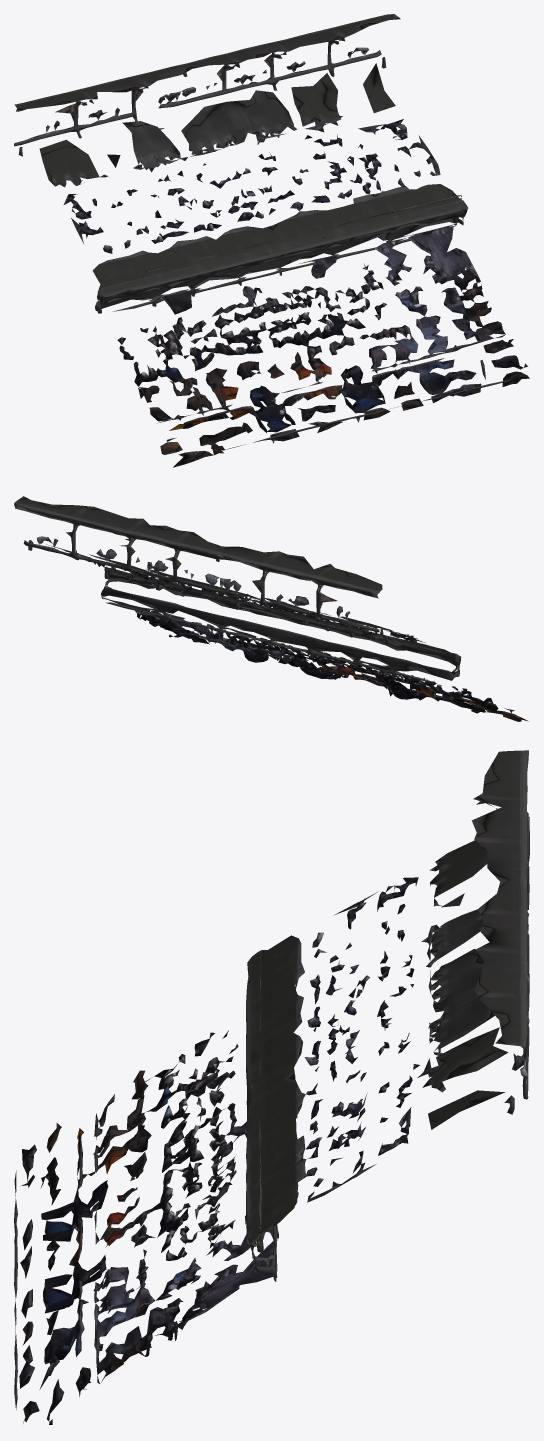
Rendered from stand-section-s1.lo.glb.
The picture shows the model from 3 angles, top to bottom: view 1: azimuth 30°, elevation 25°; view 2: azimuth 150°, elevation 25°; view 3: azimuth 270°, elevation 25°; orthographic projection. The views are drawn at different scales.
Parts seen in each view (by area): view 1: geometry_0; view 2: geometry_0; view 3: geometry_0.
Part boxes in pixels (left/top/right/bottom): geometry_0: left=14, top=14, right=529, bottom=467; geometry_0: left=14, top=496, right=528, bottom=721; geometry_0: left=14, top=750, right=529, bottom=1424.
Size of the model in its own units: 0.9987 by 0.633 by 0.7324.
1 material, 1 textured.
